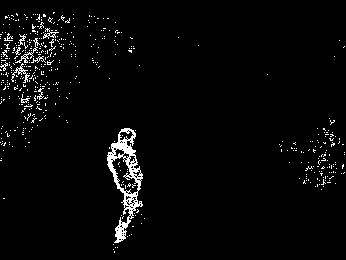person: (105, 123, 144, 250)
